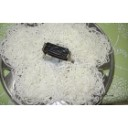idiyappam: (13, 59, 57, 103), (61, 62, 106, 103), (2, 24, 42, 66), (73, 24, 109, 65)
